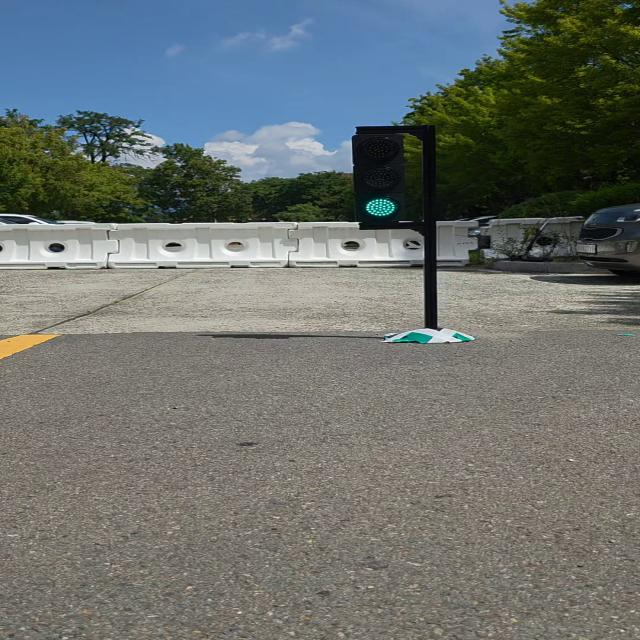green: (353, 131, 406, 231)
